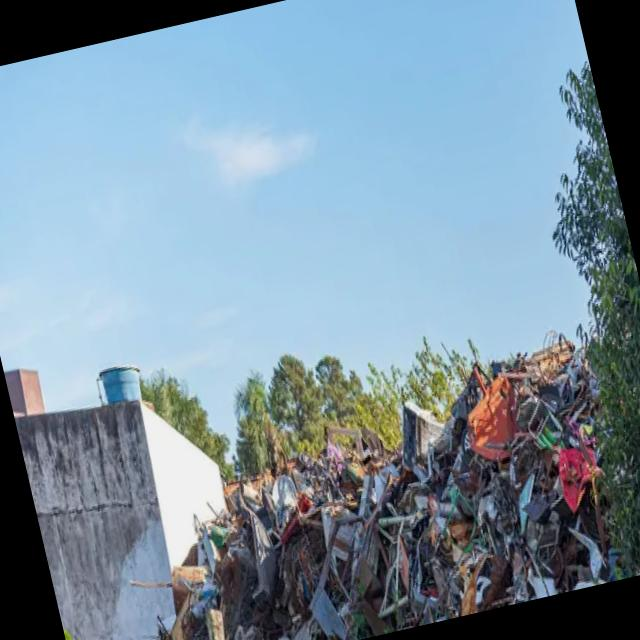garbage: (126, 294, 631, 640)
